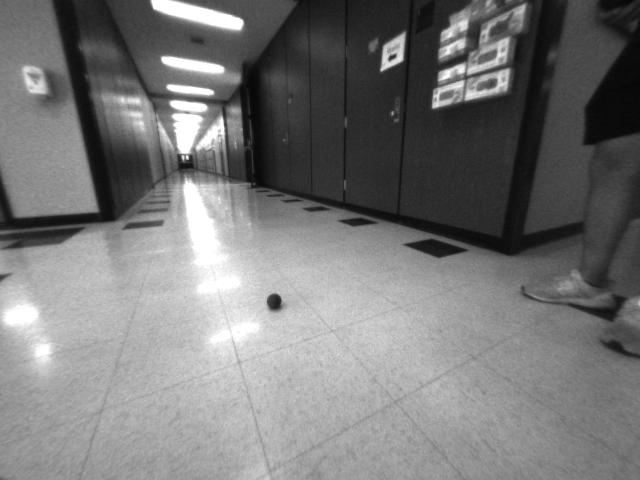dogtoy: (256, 282, 295, 318)
